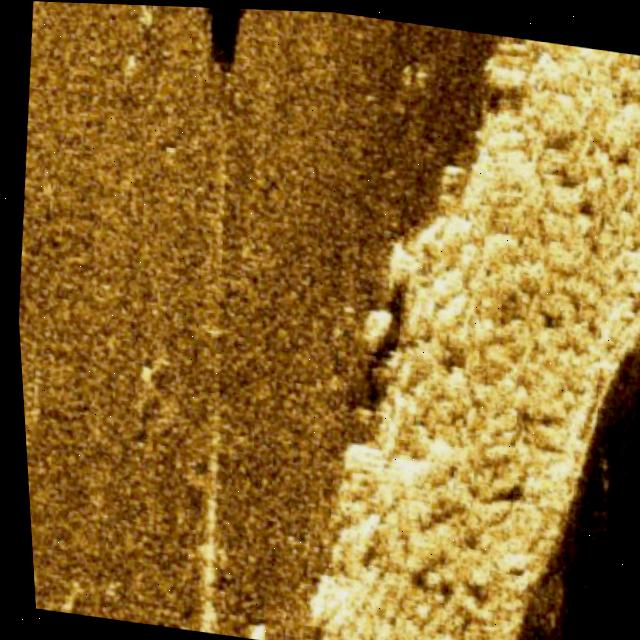bedrock group: (275, 10, 640, 640)
